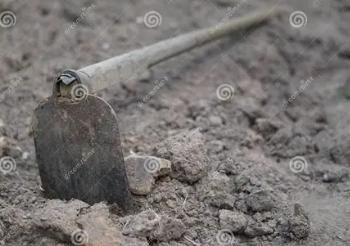HOUE: (32, 9, 283, 208)
